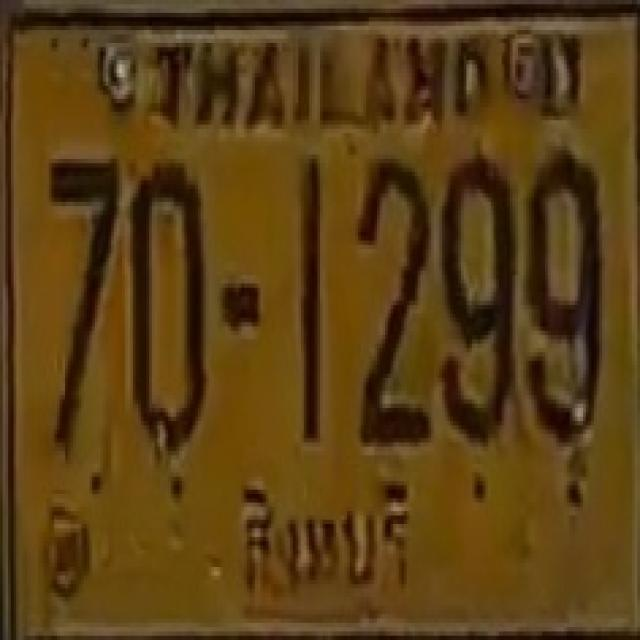0: (130, 161, 206, 453)
1: (297, 154, 321, 442)
2: (356, 159, 429, 442)
7: (49, 157, 119, 453)
9: (524, 148, 600, 445), (440, 152, 512, 440)
SBR: (226, 472, 422, 596)
